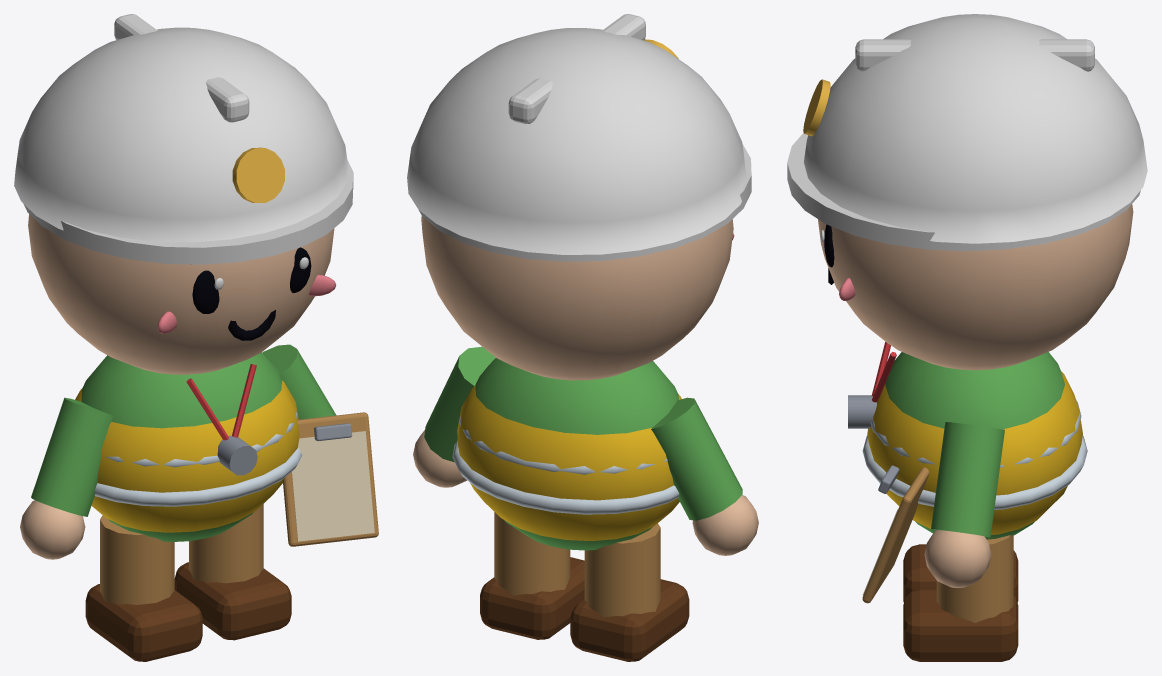
Rendered from foreman.95ff279c.glb.
The picture shows the model from 3 angles, left to right: view 1: azimuth 30°, elevation 25°; view 2: azimuth 150°, elevation 25°; view 3: azimuth 270°, elevation 25°; orthographic projection. The views are drawn at different scales.
Parts seen in each view (by area): view 1: Head__T_vcol, Body__T_vcol, Arm_L__T_vcol, Leg_R__T_vcol, Leg_L__T_vcol, Arm_R__T_vcol; view 2: Head__T_vcol, Body__T_vcol, Leg_R__T_vcol, Arm_R__T_vcol, Leg_L__T_vcol, Arm_L__T_vcol; view 3: Head__T_vcol, Body__T_vcol, Arm_L__T_vcol, Leg_L__T_vcol, Leg_R__T_vcol.
Part boxes in pixels (x1,y1,x2,y2): Head__T_vcol: (14,14,353,374); Body__T_vcol: (75,352,302,541); Arm_L__T_vcol: (262,344,378,546); Leg_R__T_vcol: (85,515,202,661); Leg_L__T_vcol: (174,504,291,640); Arm_R__T_vcol: (20,397,112,559); Head__T_vcol: (407,14,751,380); Body__T_vcol: (452,358,681,550); Leg_R__T_vcol: (570,523,689,661); Arm_R__T_vcol: (651,397,758,555); Leg_L__T_vcol: (480,512,584,639); Arm_L__T_vcol: (413,346,495,487); Head__T_vcol: (787,14,1147,370); Body__T_vcol: (848,342,1087,539); Arm_L__T_vcol: (862,422,1004,603); Leg_L__T_vcol: (903,535,1018,661); Leg_R__T_vcol: (903,544,1018,602).
Size of the model in its own units: 0.9429 by 1.58 by 0.8648.
